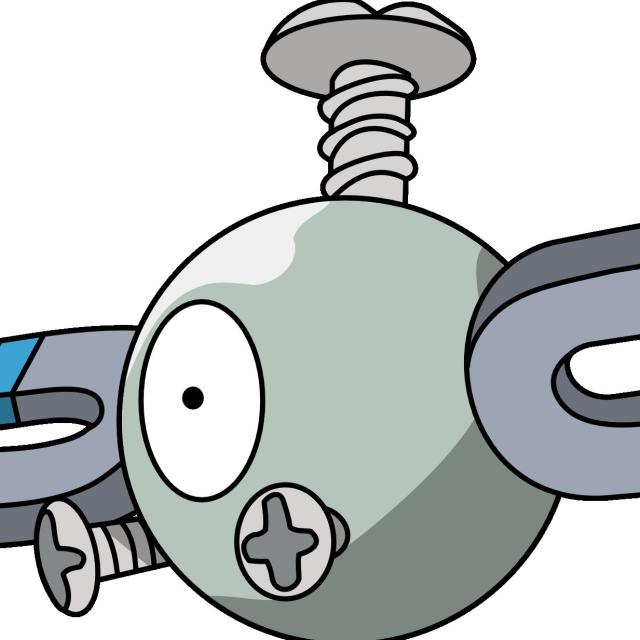Magnemite: (0, 190, 640, 640)
